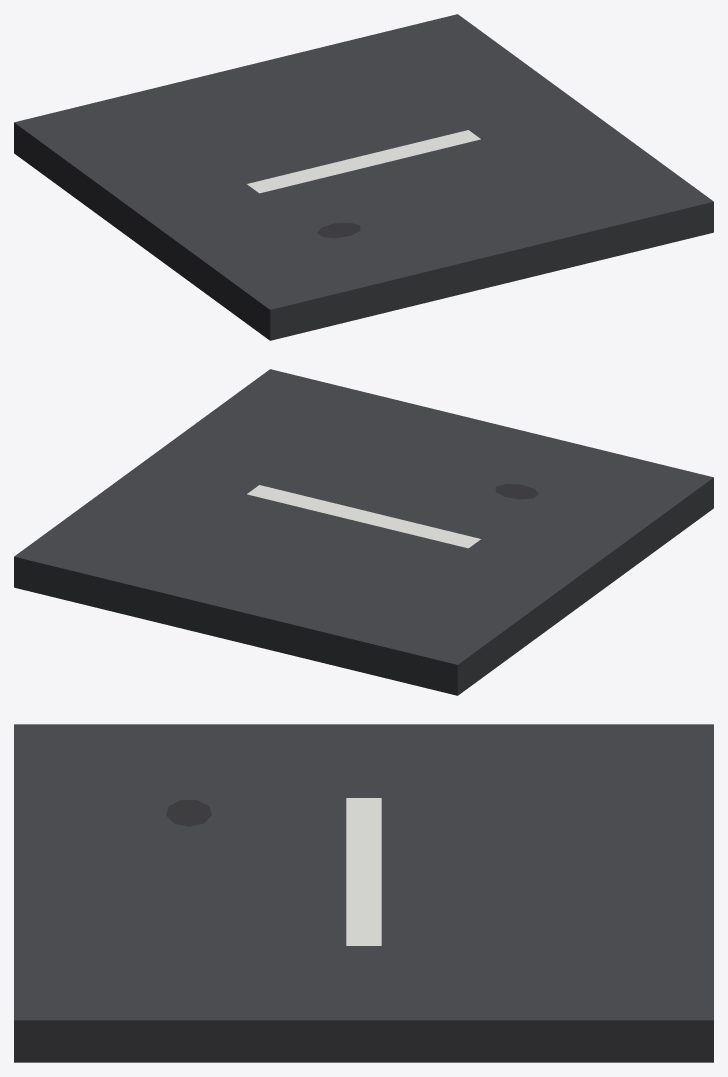
The model's file is SC_Gnd_Road_Lane_3x3.gltf.
3 renders of one model, top to bottom at view 1: azimuth 30°, elevation 25°; view 2: azimuth 150°, elevation 25°; view 3: azimuth 270°, elevation 25°, orthographic. The views are drawn at different scales.
Visible parts, largest first — view 1: SC_Gnd_Road_Lane_3x3; view 2: SC_Gnd_Road_Lane_3x3; view 3: SC_Gnd_Road_Lane_3x3.
Part boxes in pixels (<box>): SC_Gnd_Road_Lane_3x3: <box>14,14,713,340</box>; SC_Gnd_Road_Lane_3x3: <box>14,369,713,695</box>; SC_Gnd_Road_Lane_3x3: <box>14,724,713,1062</box>.
Size of the model in its own units: 3 by 0.202 by 3.
1 material, 1 textured.
